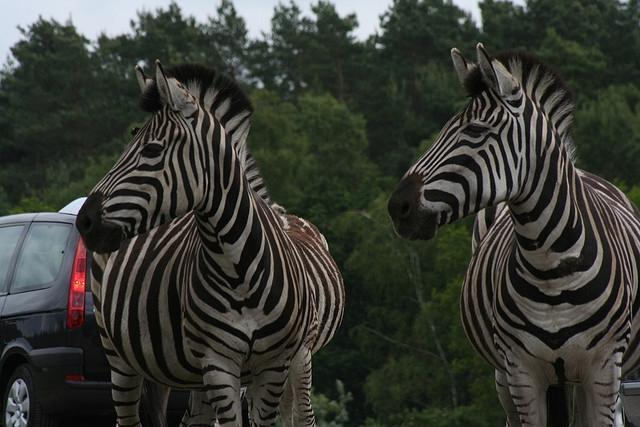car: (2, 214, 189, 422)
